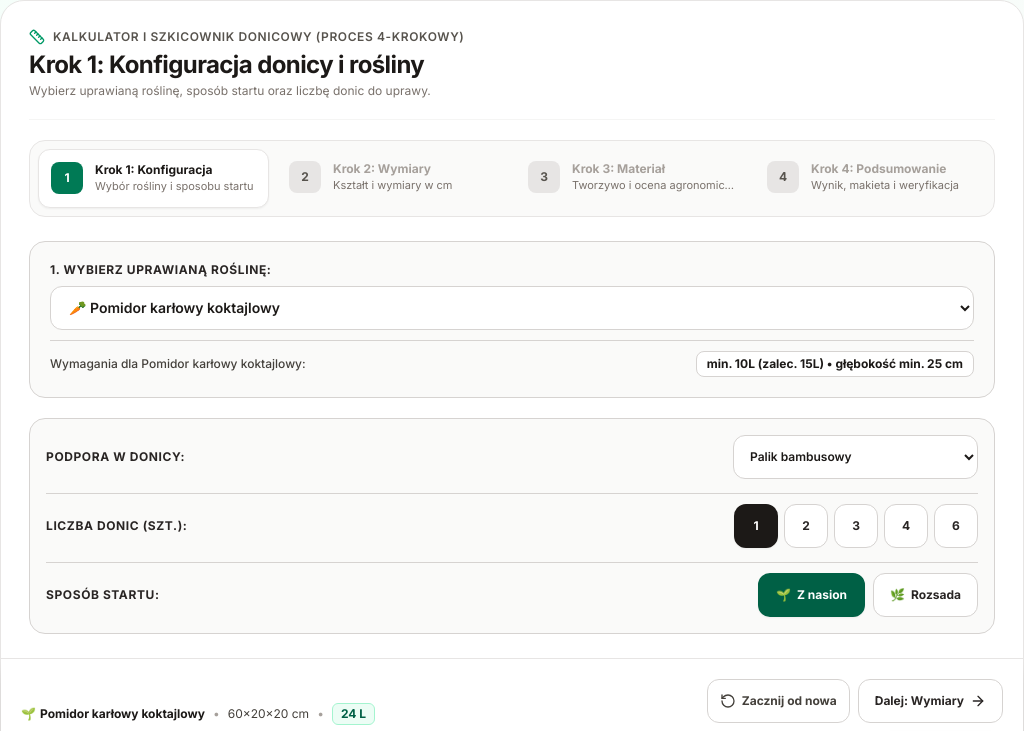
Test: PotCalculator - 4 Clear Steps, Accessible Accordions & Sticky Footer › shows only dimensions controls on step 2, hiding plant selection and material selection
This screenshot has width=1024, height=731.
// Navigate to Step 2 using next button in sticky footer
Click the button "Dalej: Wymiary" at (930, 700), box left=858, top=678, right=1003, bottom=722
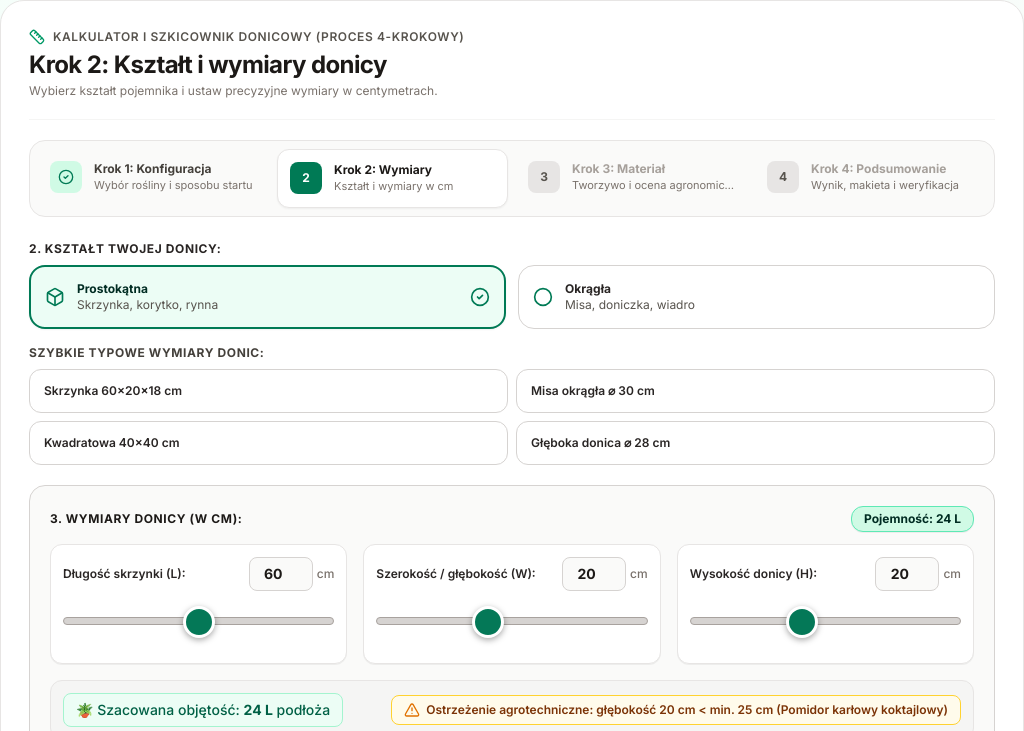
Result: the heading "Krok 2: Kształt i wymiary donicy" is shown at left=29, top=50, right=387, bottom=79
Result: the slider with test id "pot-slider-length" is shown at left=63, top=598, right=334, bottom=642
Result: the slider with test id "pot-slider-width" is shown at left=376, top=598, right=648, bottom=642
